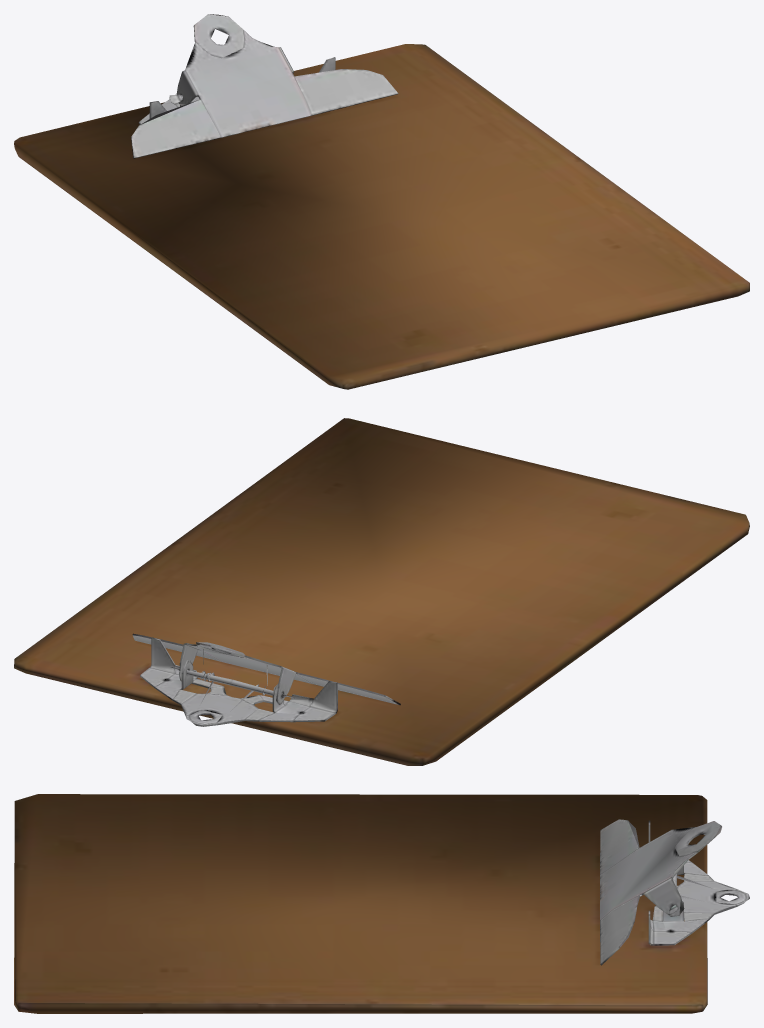
Rendered from clipboard.glb.
The picture shows the model from 3 angles, top to bottom: view 1: azimuth 30°, elevation 25°; view 2: azimuth 150°, elevation 25°; view 3: azimuth 270°, elevation 25°; orthographic projection. The views are drawn at different scales.
Parts seen in each view (by area): view 1: clipboard; view 2: clipboard; view 3: clipboard.
Part boxes in pixels (x1,y1,x2,y2): clipboard: [14, 14, 749, 389]; clipboard: [14, 418, 749, 765]; clipboard: [14, 794, 749, 1013].
Bounding box in the file's own units: 0.228 × 0.0417 × 0.3362.
1 material, 1 textured.
